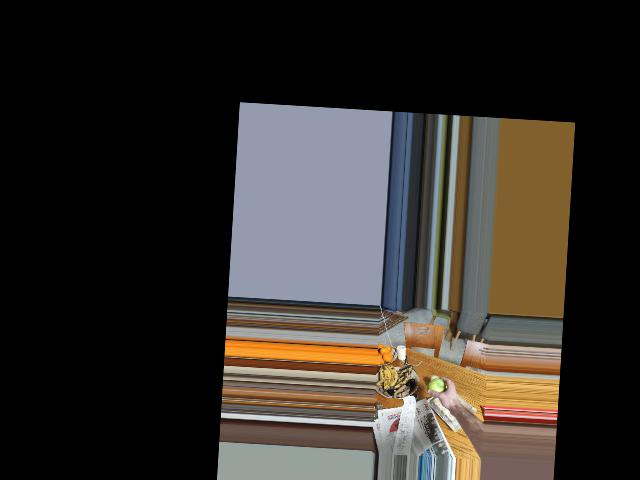apple: (426, 375, 448, 398)
